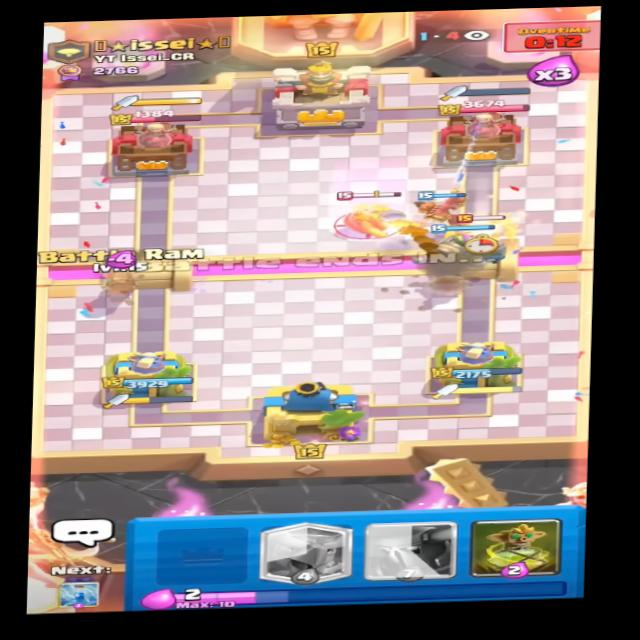Goblindemolisher: (331, 193, 406, 239)
Pekka: (440, 206, 525, 247)
